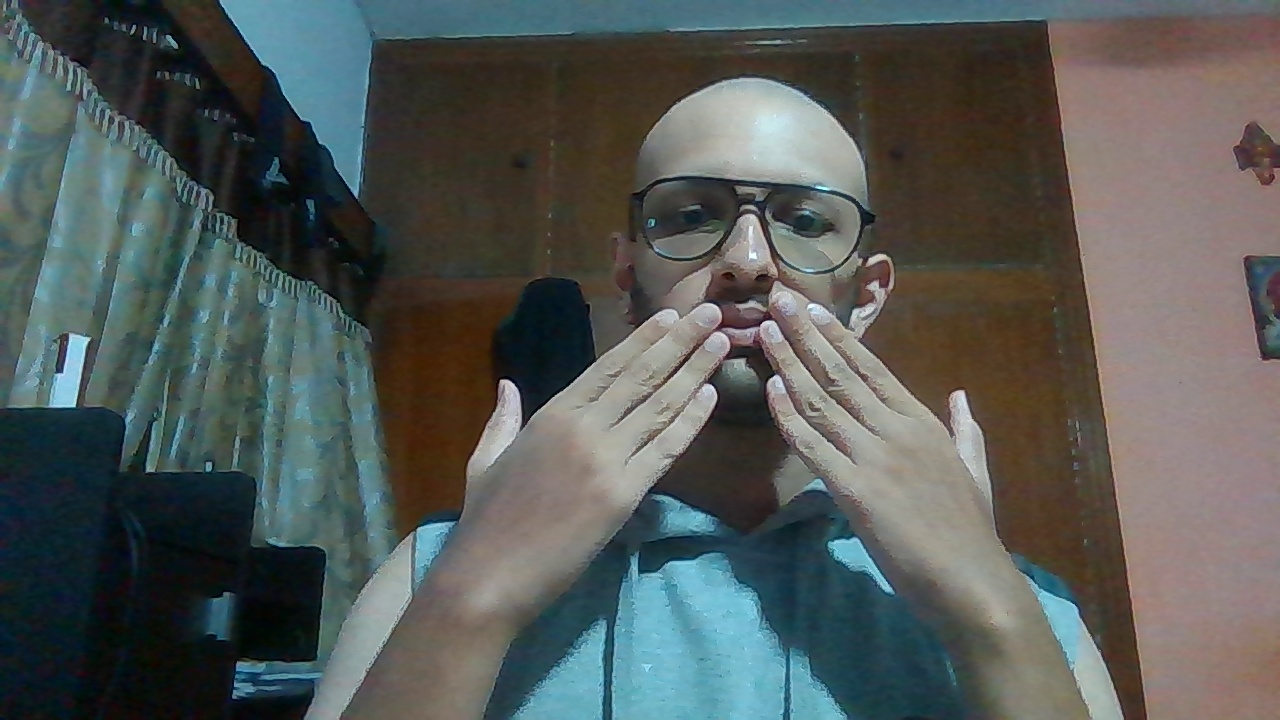Thank You: (458, 288, 1017, 582)
